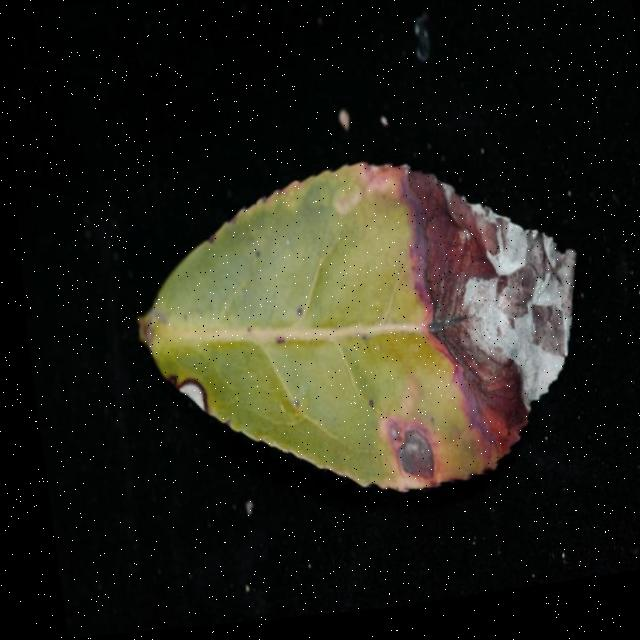Tea cloud leaf blight: (388, 161, 600, 462)
